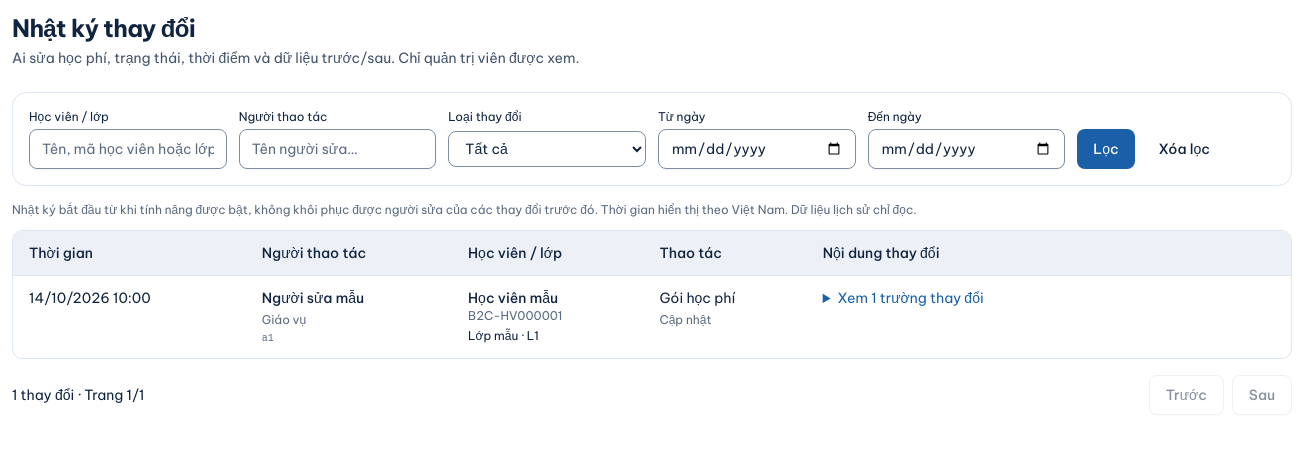
Test case: B2C history page › requires super admin and shows the actual actor and before/after details
Check: the text "Người sửa mẫu" is shown, box left=262, top=289, right=364, bottom=307
Check: the text "Học viên mẫu" is shown, box left=468, top=289, right=558, bottom=307
Click the heading "Xem 1 trường thay đổi": click(911, 298) left=838, top=289, right=984, bottom=307
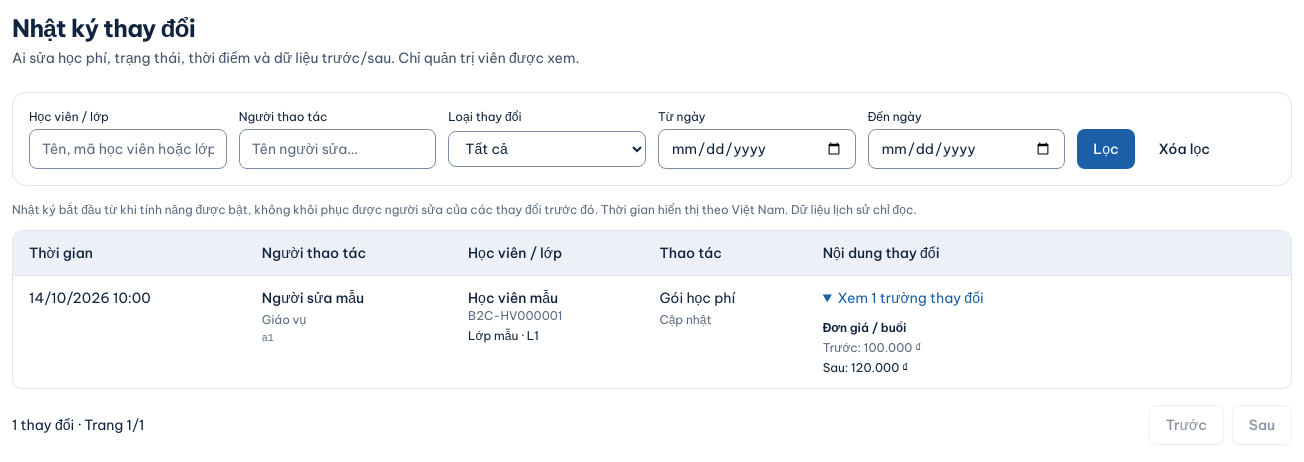
Check: the text "Đơn giá / buổi" is shown, box left=823, top=320, right=906, bottom=335
Check: the text "Trước: 100.000 ₫" is shown, box left=823, top=340, right=921, bottom=355
Check: the text "Sau: 120.000 ₫" is shown, box left=823, top=360, right=908, bottom=375
